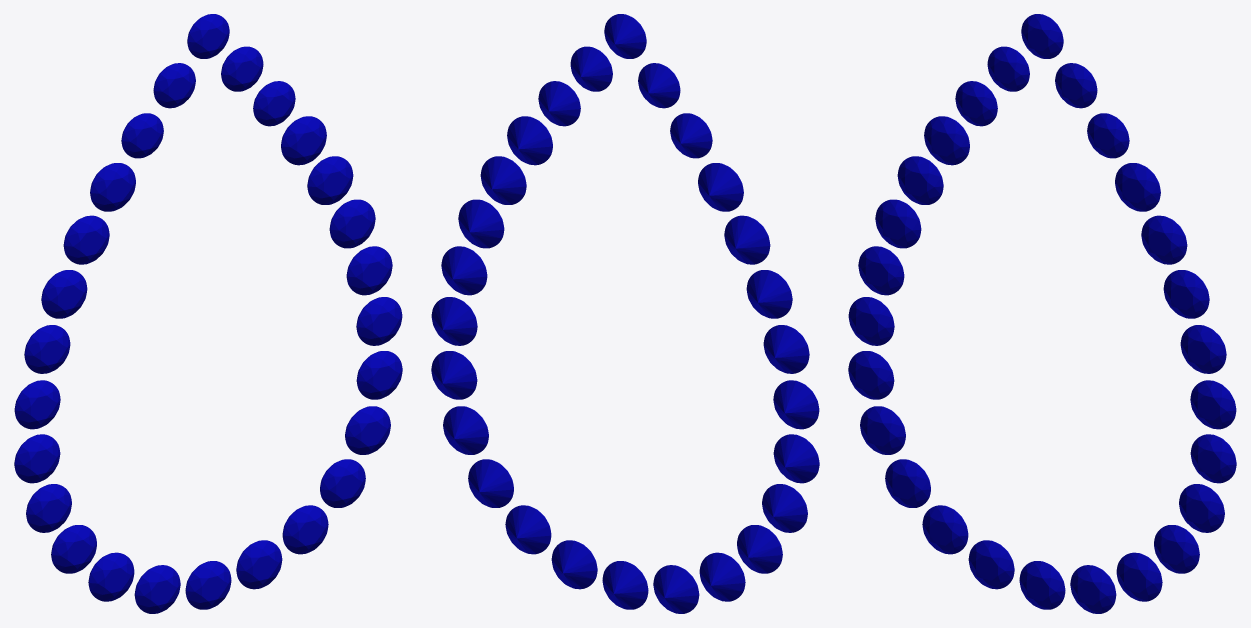
File: P246_gems.glb
3 renders of one model, left to right at view 1: azimuth 30°, elevation 25°; view 2: azimuth 150°, elevation 25°; view 3: azimuth 330°, elevation 25°, orthographic.
Parts seen in each view (by area): view 1: P246_gems.obj; view 2: P246_gems.obj; view 3: P246_gems.obj.
Boxes of the visible parts, left/top/right/bottom form: P246_gems.obj: left=14, top=14, right=402, bottom=613; P246_gems.obj: left=431, top=14, right=819, bottom=613; P246_gems.obj: left=848, top=14, right=1236, bottom=613.
Bounding box in the file's own units: 11.13 × 16.31 × 0.806.
